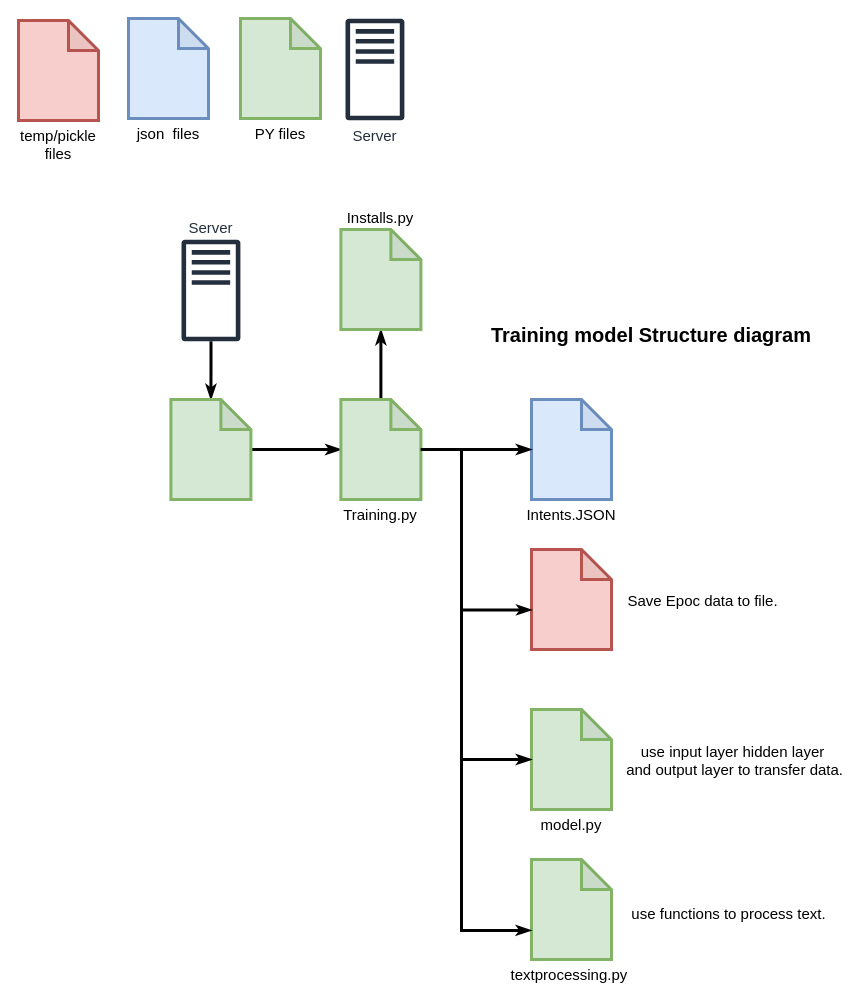
This 860x1002 diagram has some shape labels left out. Each missing label, with the centre of its shape:
"data.pth" belongs at point 571,599.
"TrainingGUI.py" belongs at point 210,449.
